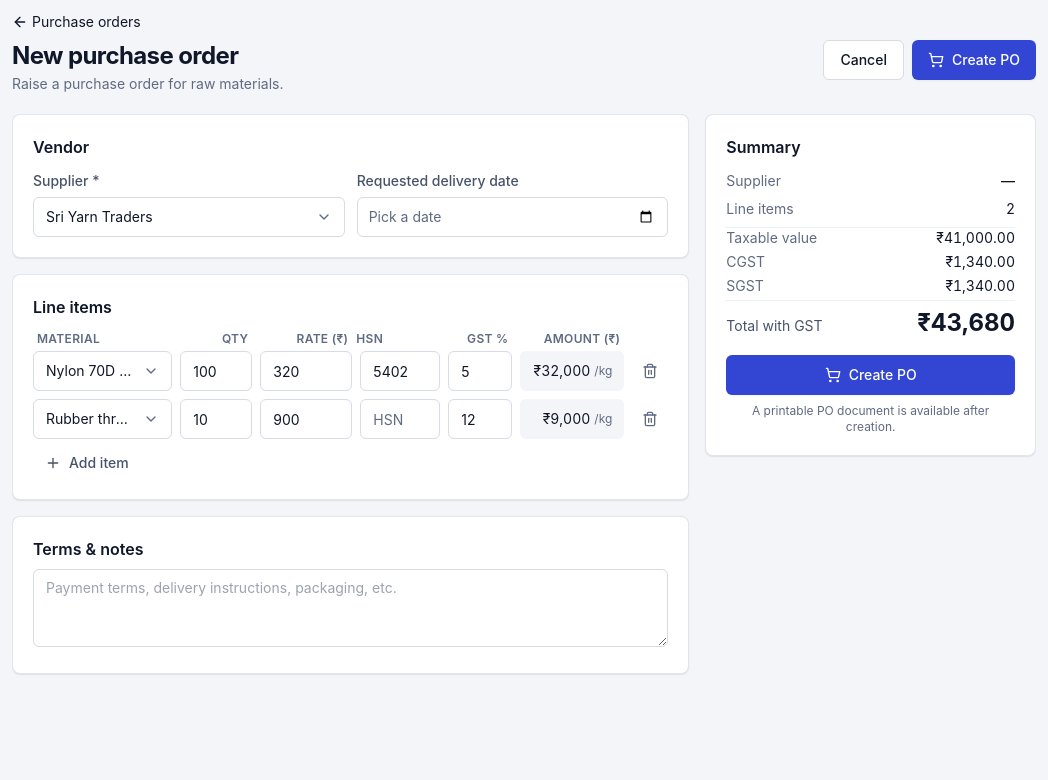
Test: the purchase order form › will not send an HSN that is not 4 to 8 digits
Type "12" into the field labelled "HSN".
click(400, 419); type("12")  # box [360,399,440,439]
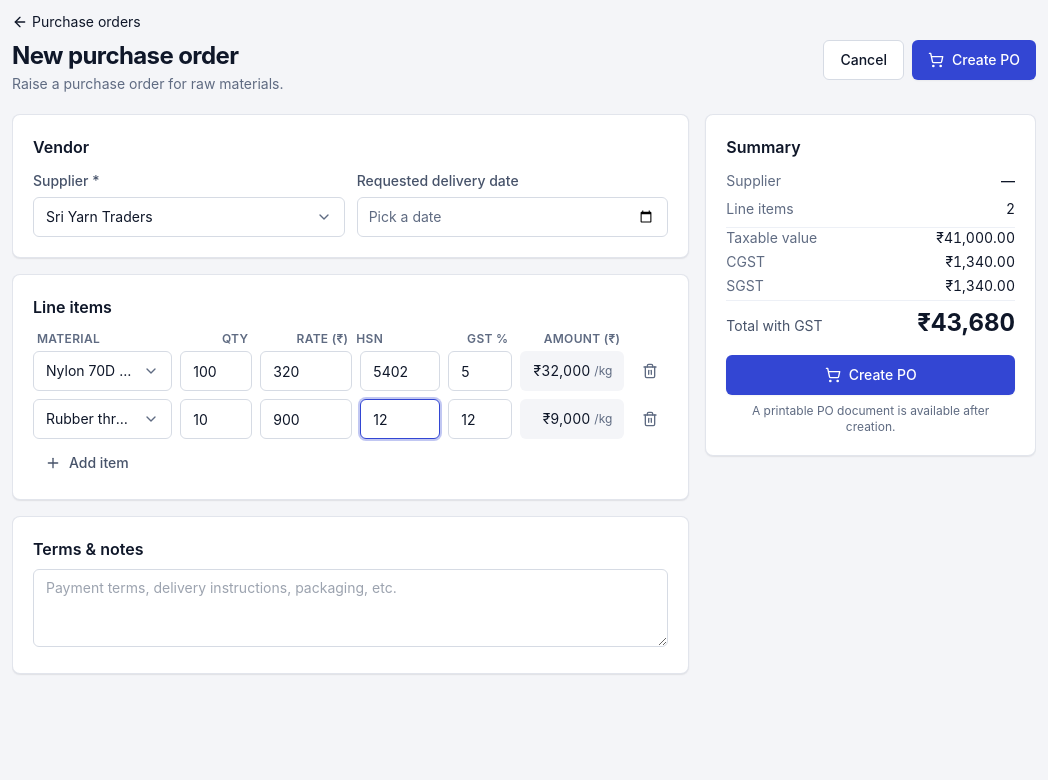
Click the button "Create PO" in the row of "New purchase order".
click(974, 60)  # box [912,40,1036,80]
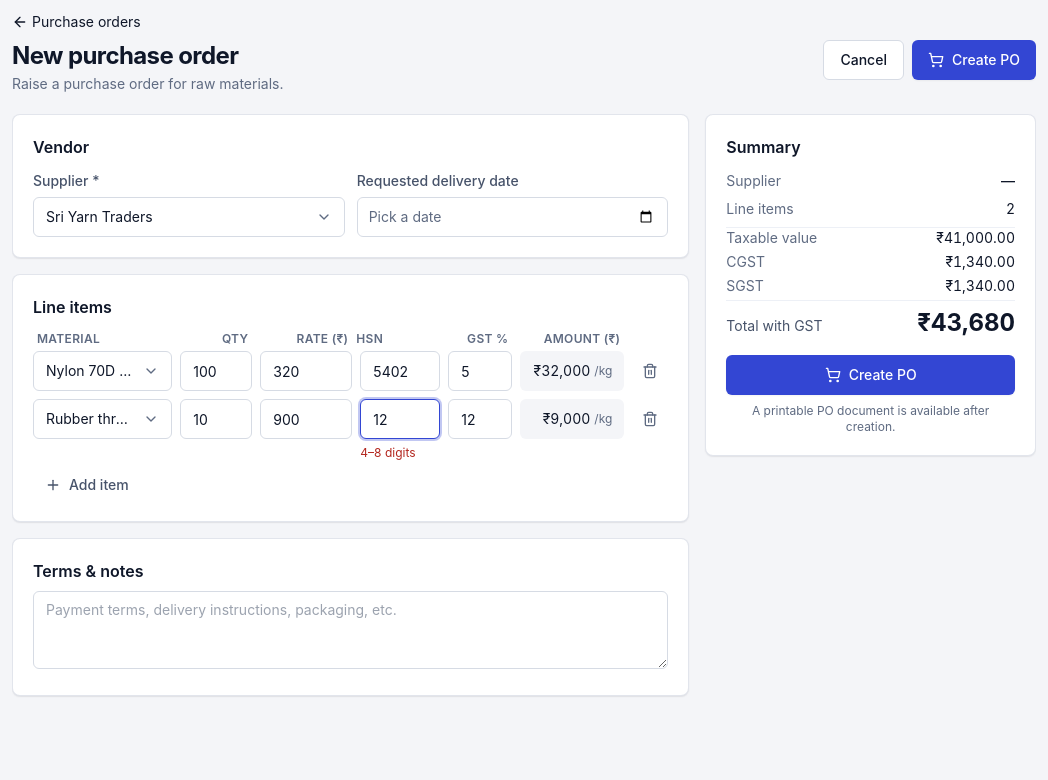
Expected: the text "4–8 digits" is shown, [360,445,416,460]
